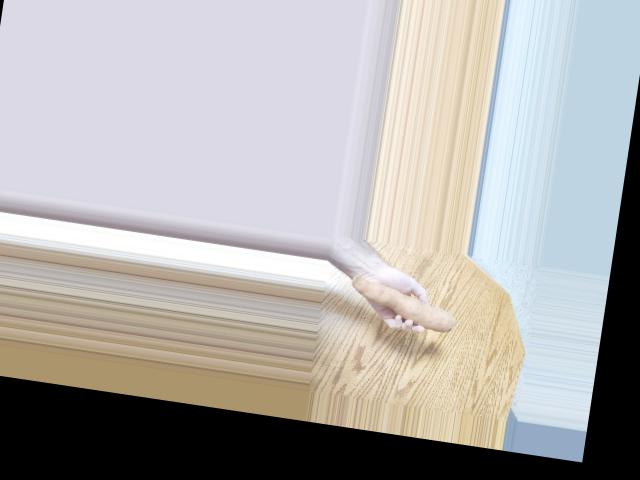sweet_potato: (351, 280, 454, 335)
